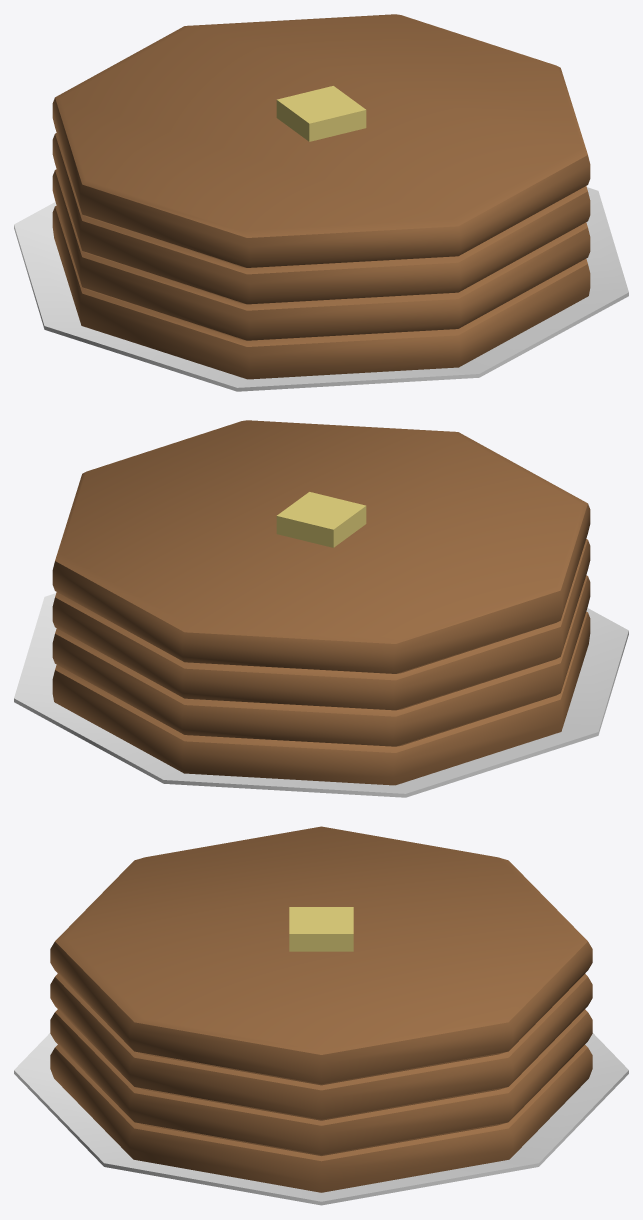
The model's file is Pancake.fbx.
The picture shows the model from 3 angles, top to bottom: view 1: azimuth 30°, elevation 25°; view 2: azimuth 150°, elevation 25°; view 3: azimuth 270°, elevation 25°; orthographic projection. The views are drawn at different scales.
Parts seen in each view (by area): view 1: Pancake; view 2: Pancake; view 3: Pancake.
Boxes of the visible parts, left/top/right/bottom form: Pancake: left=14, top=14, right=628, bottom=391; Pancake: left=14, top=420, right=628, bottom=797; Pancake: left=14, top=826, right=628, bottom=1205.
Bounding box in the file's own units: 58.79 × 17.18 × 58.04.
